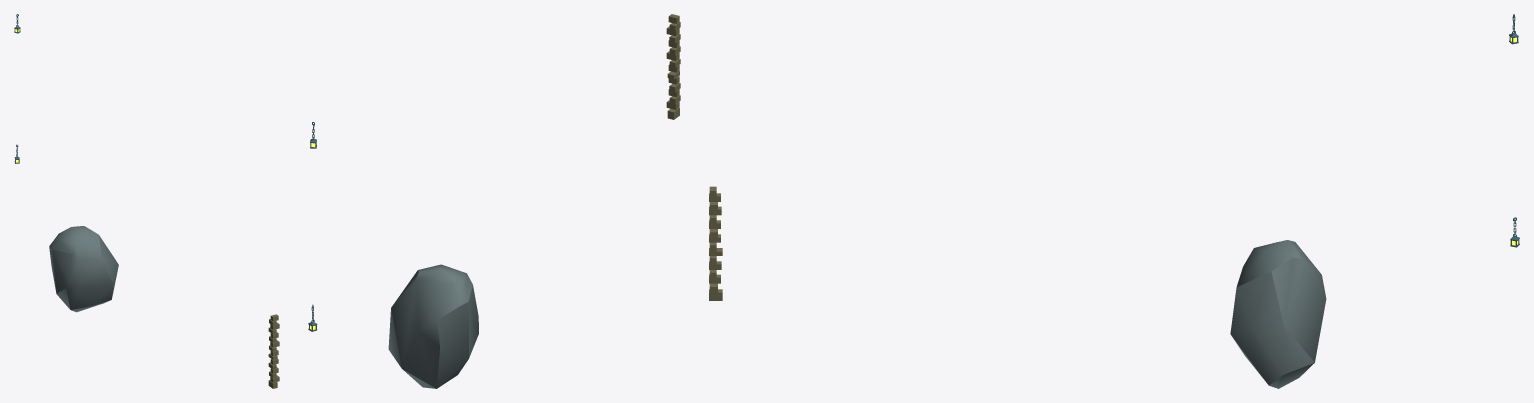
3 views of the same model, side by side, from view 1: azimuth 30°, elevation 25°; view 2: azimuth 150°, elevation 25°; view 3: azimuth 270°, elevation 25° (orthographic). The views are drawn at different scales.
Visible parts, largest first — view 1: Box163_rock_0, Box15413_rock2_0; view 2: Box163_rock_0, Box15413_rock2_0; view 3: Box163_rock_0, Box15413_rock2_0.
Boxes of the visible parts, left/top/right/bottom form: Box163_rock_0: left=49, top=226, right=118, bottom=312; Box15413_rock2_0: left=268, top=314, right=279, bottom=388; Box163_rock_0: left=388, top=264, right=478, bottom=388; Box15413_rock2_0: left=666, top=14, right=680, bottom=119; Box163_rock_0: left=1230, top=240, right=1326, bottom=388; Box15413_rock2_0: left=709, top=186, right=722, bottom=300.
Bounding box in the file's own units: 582 × 2283 × 4493.
